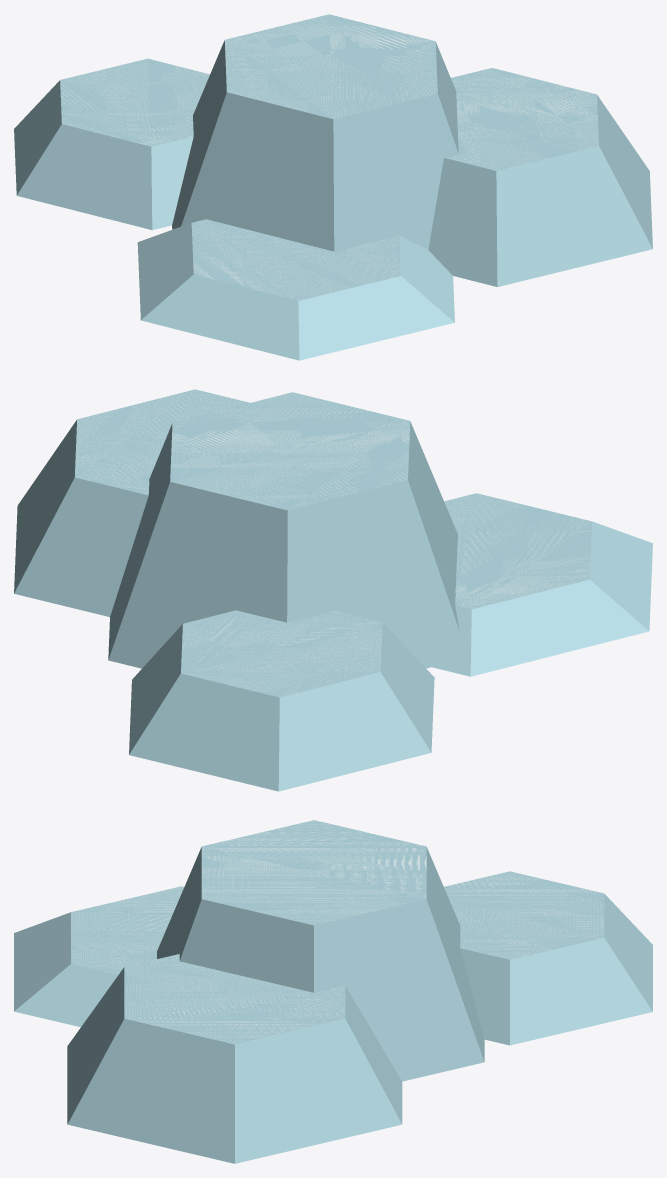
The model's file is snow_detail_rocks.dae.
3 views of the same model, one above another, from view 1: azimuth 30°, elevation 25°; view 2: azimuth 150°, elevation 25°; view 3: azimuth 270°, elevation 25° (orthographic). The views are drawn at different scales.
Visible parts, largest first — view 1: snow_detail_rocks; view 2: snow_detail_rocks; view 3: snow_detail_rocks.
Part boxes in pixels (box(x1,y1,x2,y2)): snow_detail_rocks: box(14, 14, 652, 360); snow_detail_rocks: box(14, 389, 652, 791); snow_detail_rocks: box(14, 820, 652, 1163).
Size of the model in its own units: 0.6 by 0.155 by 0.6.
